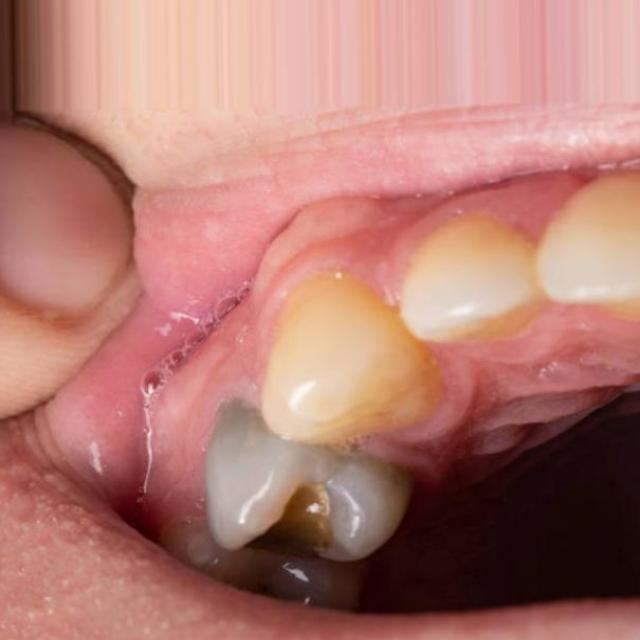caries: (244, 473, 352, 569)
